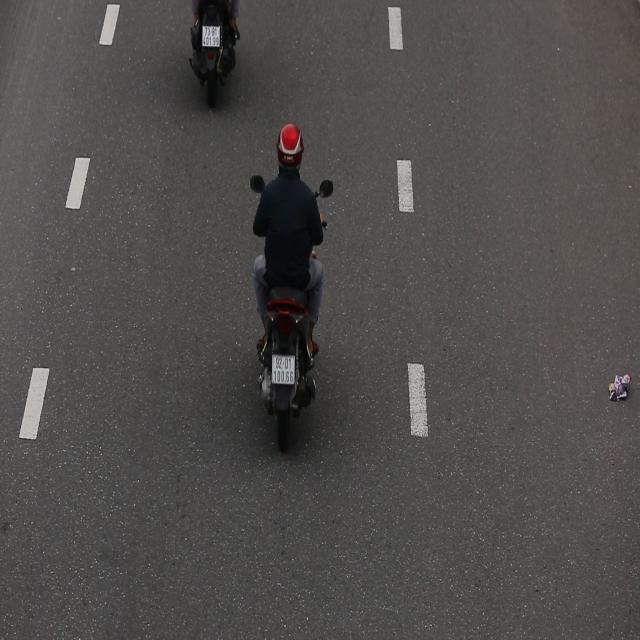motorbike: (240, 108, 340, 453)
